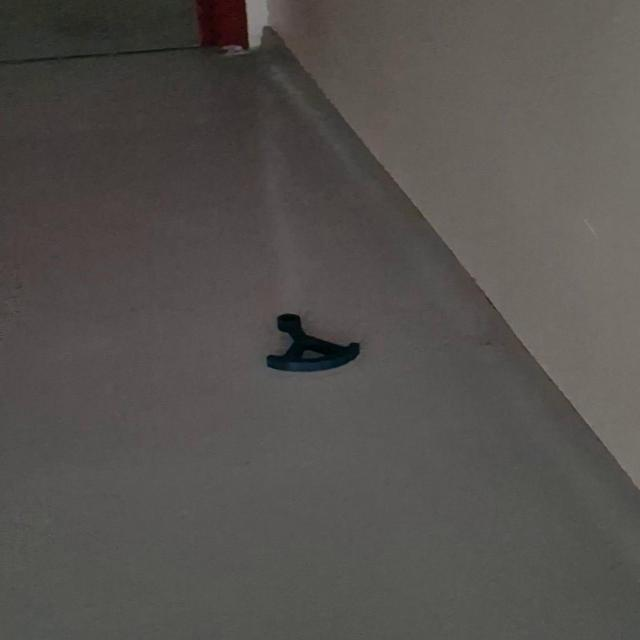haptic: (265, 313, 361, 373)
